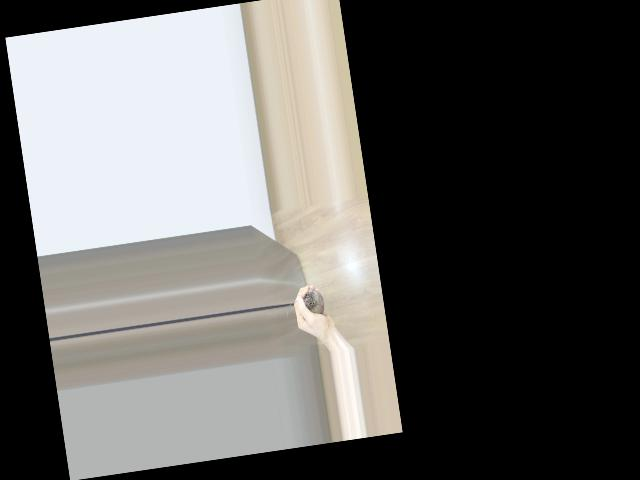beet: (283, 286, 325, 319)
